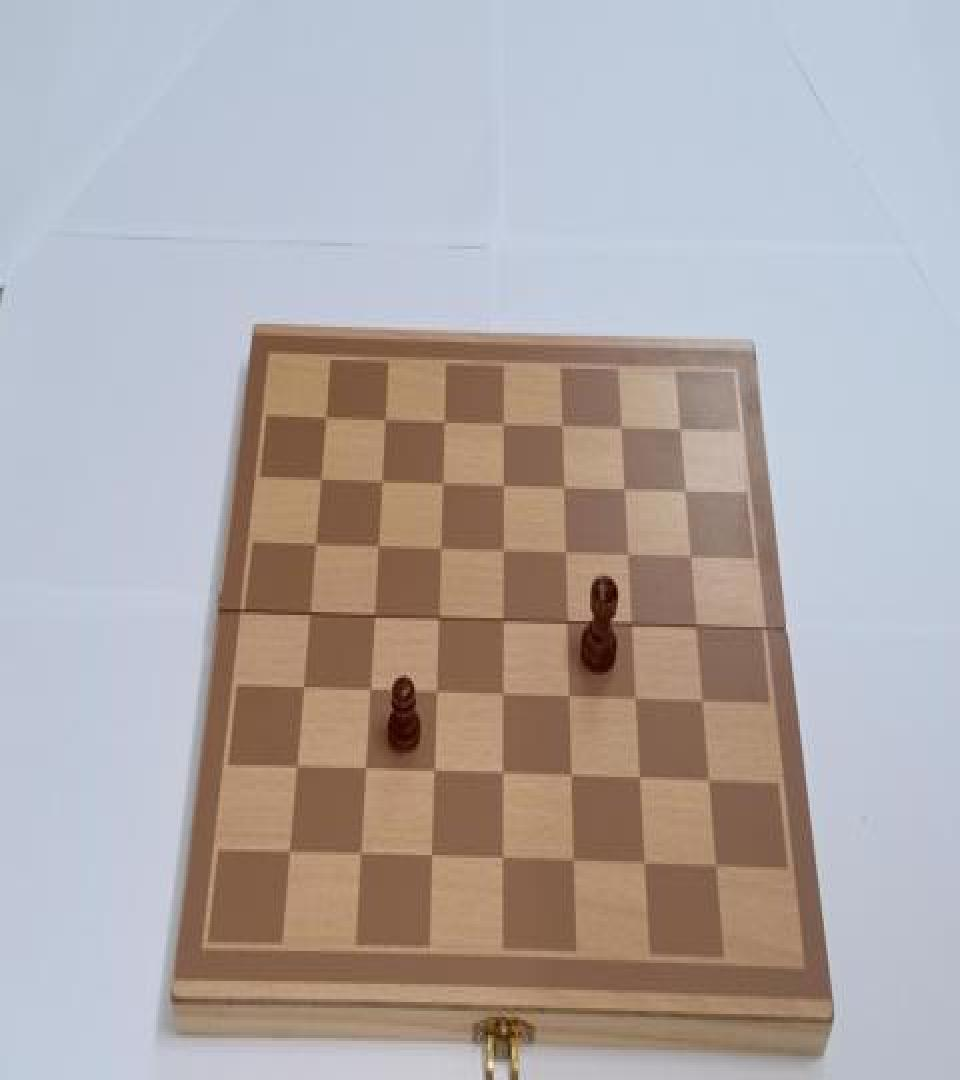xcorner: (310, 466, 328, 494), (434, 406, 452, 434), (425, 760, 443, 788), (555, 472, 573, 500), (616, 472, 634, 500), (672, 412, 690, 440), (315, 404, 333, 431), (304, 532, 322, 559), (299, 603, 317, 630), (292, 678, 310, 705), (278, 843, 296, 870), (375, 405, 393, 432), (371, 468, 389, 495), (368, 534, 386, 561), (364, 604, 382, 631), (355, 759, 373, 786), (350, 844, 368, 871), (433, 470, 451, 497), (429, 606, 447, 633), (427, 681, 445, 708), (494, 408, 512, 435), (494, 471, 512, 498), (494, 537, 512, 564), (494, 683, 512, 710), (494, 849, 512, 876), (557, 538, 575, 565), (559, 609, 577, 636), (561, 684, 579, 711), (564, 765, 582, 792), (566, 851, 584, 878), (613, 411, 631, 438), (620, 540, 638, 567), (624, 610, 642, 637), (633, 766, 651, 793), (638, 852, 656, 879), (678, 474, 696, 501), (690, 612, 708, 639), (696, 687, 714, 714), (703, 768, 721, 795), (285, 758, 303, 784), (359, 680, 377, 706), (431, 536, 449, 562), (422, 848, 440, 874), (494, 608, 512, 634), (494, 764, 512, 790), (553, 410, 571, 436), (629, 686, 647, 712), (683, 542, 701, 568), (710, 854, 728, 880)
